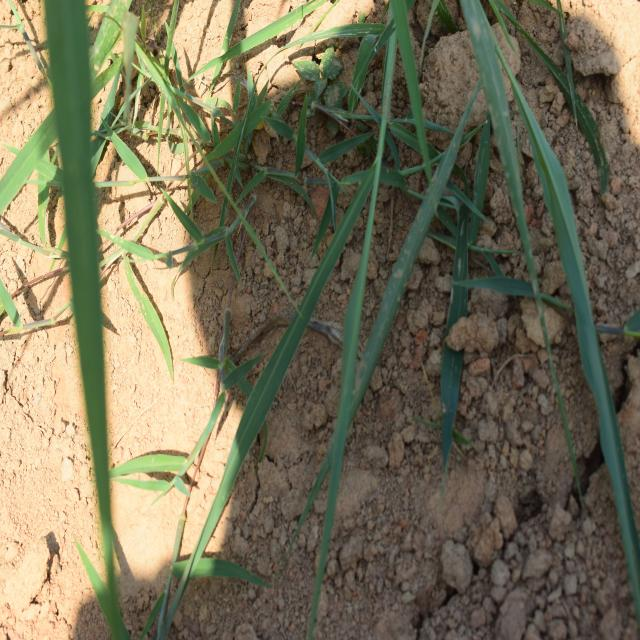green_foxtail: (260, 20, 570, 502)
